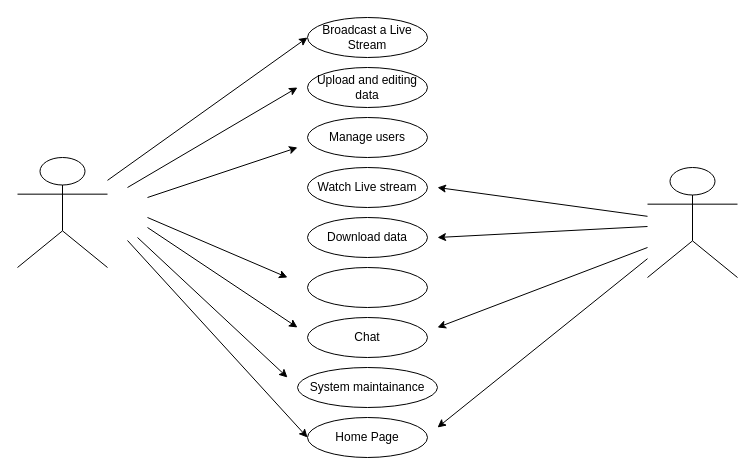
Some shapes in this 755 by 475 pixel diagram are drawn without their labels. Here are the shapes that lost their labels. From the top down, the centre of each, then its label:
(x=62, y=212): Admin
(x=692, y=222): User
(x=367, y=287): Self Registration
